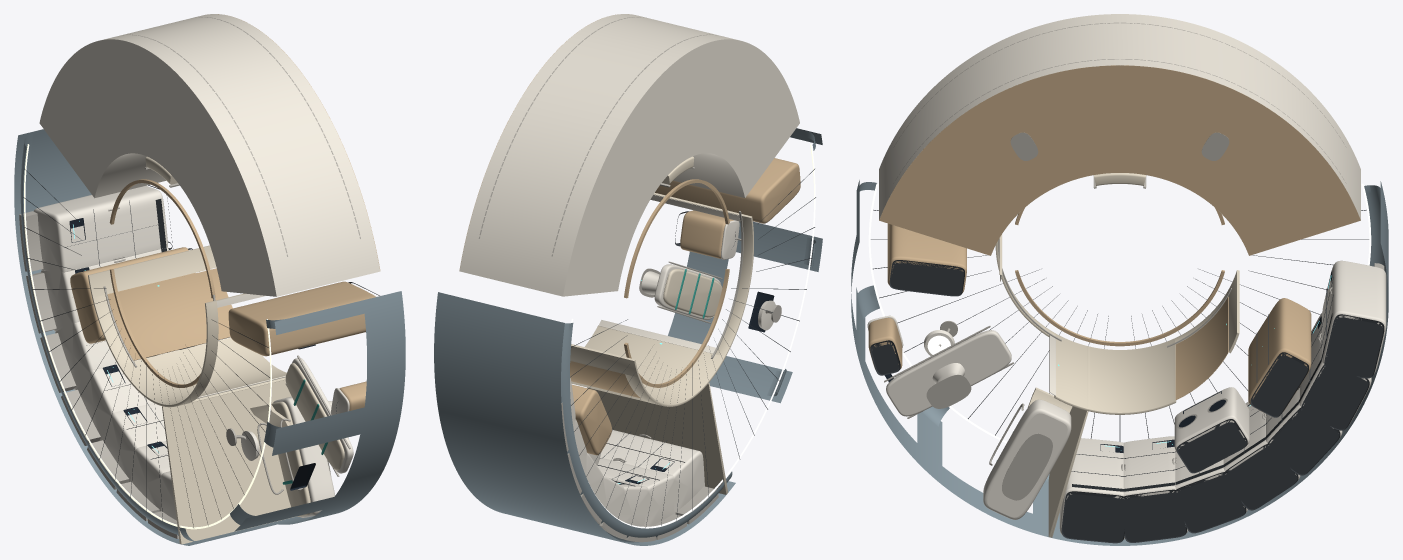
File: interior_L4.glb
3 views of the same model, side by side, from view 1: azimuth 30°, elevation 25°; view 2: azimuth 150°, elevation 25°; view 3: azimuth 270°, elevation 25° (orthographic).
Visible parts, largest first — view 1: dry:L4_S7_shelter_lining, dry:L4_D3_lining, dry:L4_P0_eclss, dry:L4_P0_medical, dry:L4_R_racks_worktop_7, dry:L4_M3_cabinets_pharmacy, dry:L4_M1_treatment_table, dry:L4_M2_recovery_bed, dry:L4_R_racks_worktop_3, dry:L4_R_racks_worktop_4, dry:L4_R9_spares, dry:L4_R_racks_worktop_5 (+13 smaller); view 2: dry:L4_S7_shelter_lining, dry:L4_D3_lining, dry:L4_P0_eclss, dry:L4_P0_medical, dry:L4_M1_treatment_table, dry:L4_R_racks_worktop_1, dry:L4_M3_cabinets_pharmacy, dry:L4_M5_decon_sink_terminal, dry:L4_R_racks_worktop_2, dry:L4_D2_overhead_rail, dry:L4_R9_spares, dry:L4_R_racks_worktop_3 (+5 smaller); view 3: dry:L4_S7_shelter_lining, dry:L4_D3_lining, dry:L4_P0_eclss, dry:L4_M1_treatment_table, dry:L4_M2_recovery_bed, dry:L4_R9_spares, dry:L4_P0_medical, dry:L4_R8_laundry, dry:L4_M3_cabinets_pharmacy, dry:L4_R_racks_worktop_7, dry:L4_R_racks_reveal_1, dry:L4_R_racks_reveal_7 (+16 smaller).
Boxes of the visible parts, <box> form: dry:L4_S7_shelter_lining: <box>39,14,380,296</box>; dry:L4_D3_lining: <box>14,129,405,545</box>; dry:L4_P0_eclss: <box>88,245,286,543</box>; dry:L4_P0_medical: <box>162,293,296,544</box>; dry:L4_R_racks_worktop_7: <box>33,185,167,274</box>; dry:L4_M3_cabinets_pharmacy: <box>228,281,379,356</box>; dry:L4_M1_treatment_table: <box>226,355,353,490</box>; dry:L4_M2_recovery_bed: <box>250,396,335,517</box>; dry:L4_R_racks_worktop_3: <box>101,403,166,481</box>; dry:L4_R_racks_worktop_4: <box>75,359,153,440</box>; dry:L4_R9_spares: <box>70,247,195,343</box>; dry:L4_R_racks_worktop_5: <box>55,321,117,389</box>; dry:L4_S7_shelter_lining: <box>459,14,799,296</box>; dry:L4_D3_lining: <box>434,128,822,545</box>; dry:L4_P0_eclss: <box>570,344,727,494</box>; dry:L4_P0_medical: <box>585,193,753,492</box>; dry:L4_M1_treatment_table: <box>639,261,781,332</box>; dry:L4_R_racks_worktop_1: <box>600,429,704,514</box>; dry:L4_M3_cabinets_pharmacy: <box>655,158,800,223</box>; dry:L4_M5_decon_sink_terminal: <box>675,210,741,259</box>; dry:L4_R_racks_worktop_2: <box>597,457,675,526</box>; dry:L4_D2_overhead_rail: <box>624,179,729,387</box>; dry:L4_R9_spares: <box>572,384,611,455</box>; dry:L4_R_racks_worktop_3: <box>608,477,649,526</box>; dry:L4_S7_shelter_lining: <box>879,14,1360,255</box>; dry:L4_D3_lining: <box>851,180,1388,545</box>; dry:L4_P0_eclss: <box>1050,270,1239,537</box>; dry:L4_M1_treatment_table: <box>884,321,1013,418</box>; dry:L4_M2_recovery_bed: <box>983,387,1072,519</box>; dry:L4_R9_spares: <box>1248,298,1311,417</box>; dry:L4_P0_medical: <box>995,234,1088,537</box>; dry:L4_R8_laundry: <box>1174,387,1249,473</box>; dry:L4_M3_cabinets_pharmacy: <box>887,223,966,296</box>; dry:L4_R_racks_worktop_7: <box>1322,260,1386,374</box>; dry:L4_R_racks_reveal_1: <box>1061,454,1126,543</box>; dry:L4_R_racks_reveal_7: <box>1321,277,1384,378</box>.
Size of the model in its own units: 2.3 by 8.09 by 8.3.
